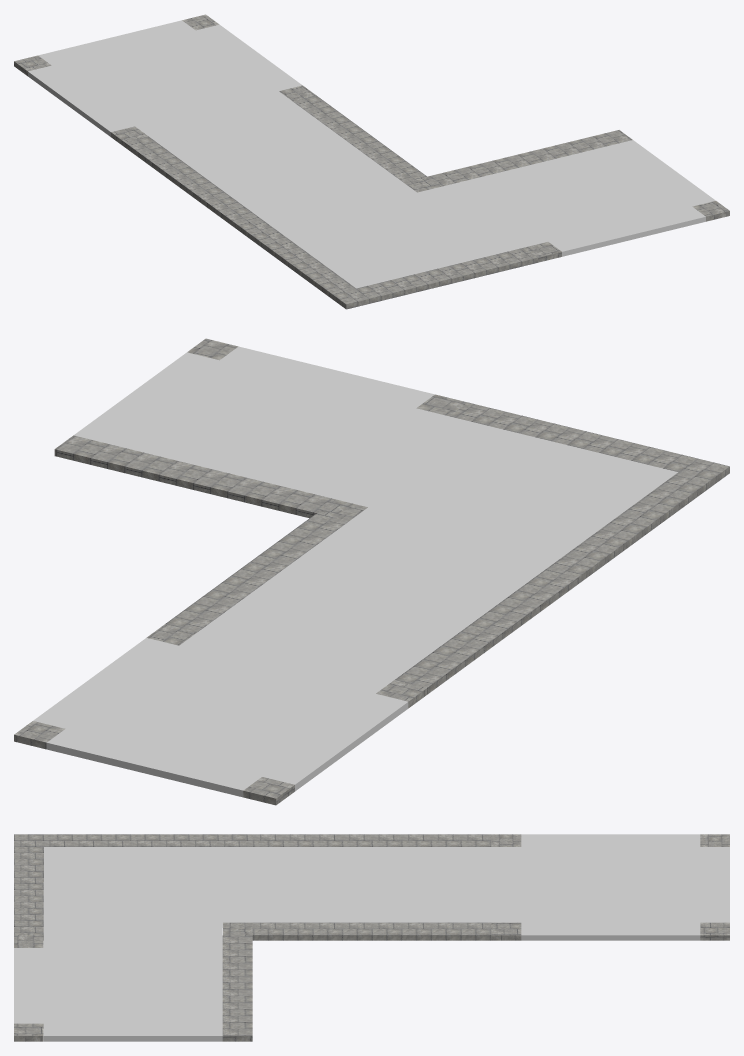
File: Road (1).fbx
The picture shows the model from 3 angles, top to bottom: view 1: azimuth 30°, elevation 25°; view 2: azimuth 150°, elevation 25°; view 3: azimuth 270°, elevation 25°; orthographic projection. The views are drawn at different scales.
Visible parts, largest first — view 1: RoadCentre.001, RoadIntersection.001, RoadTurn.001, RoadStraight.001, SidewalkTurn.001, SideWalkStraight.001, SidewalkIntersection.001, SidewalkCentre.003; view 2: RoadCentre.001, RoadIntersection.001, RoadTurn.001, RoadStraight.001, SidewalkTurn.001, SideWalkStraight.001, SidewalkIntersection.001, SidewalkCentre.003; view 3: RoadCentre.001, RoadIntersection.001, RoadTurn.001, RoadStraight.001, SideWalkStraight.001, SidewalkTurn.001, SidewalkIntersection.001, SidewalkCentre.003.
Boxes of the visible parts, x1,y1,x2,y2 form: RoadCentre.001: (28,20,302,136); RoadIntersection.001: (441,140,715,256); RoadTurn.001: (260,182,523,288); RoadStraight.001: (149,101,402,217); SidewalkTurn.001: (235,176,537,309); SideWalkStraight.001: (124,95,426,228); SidewalkIntersection.001: (428,130,729,262); SidewalkCentre.003: (14,14,316,146); RoadCentre.001: (33,632,408,797); RoadIntersection.001: (74,346,448,499); RoadTurn.001: (336,416,677,568); RoadStraight.001: (198,521,545,679); SidewalkTurn.001: (317,402,729,583); SideWalkStraight.001: (165,513,578,694); SidewalkIntersection.001: (54,338,467,518); SidewalkCentre.003: (14,624,427,805); RoadCentre.001: (491,834,729,940); RoadIntersection.001: (14,935,222,1041); RoadTurn.001: (43,847,252,940); RoadStraight.001: (252,847,491,922); SideWalkStraight.001: (252,834,491,940); SidewalkTurn.001: (14,834,252,935); SidewalkIntersection.001: (14,935,252,1041); SidewalkCentre.003: (491,834,729,940).
Bounding box in the file's own units: 800 × 10 × 1200.
Materials: 1 (1 with a texture image).
